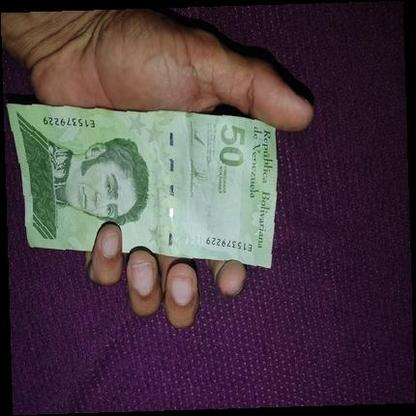vef_front: (6, 103, 277, 268)
